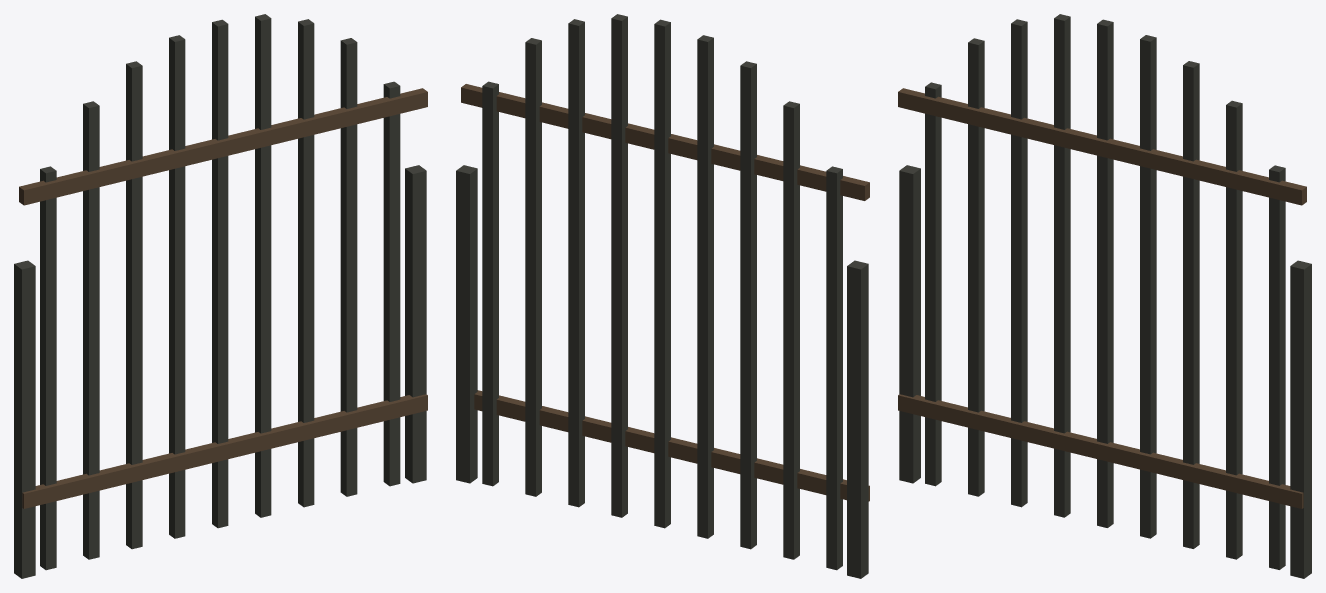
Rendered from arched_cell_grille.glb.
3 views of the same model, side by side, from view 1: azimuth 30°, elevation 25°; view 2: azimuth 150°, elevation 25°; view 3: azimuth 330°, elevation 25° (orthographic).
Parts seen in each view (by area): view 1: Arched cell grille; view 2: Arched cell grille; view 3: Arched cell grille.
Boxes of the visible parts, x1=… form: Arched cell grille: x1=14, y1=14, x2=427, y2=578; Arched cell grille: x1=456, y1=14, x2=869, y2=578; Arched cell grille: x1=898, y1=14, x2=1311, y2=578.
Bounding box in the file's own units: 1.56 × 1.86 × 0.063.
